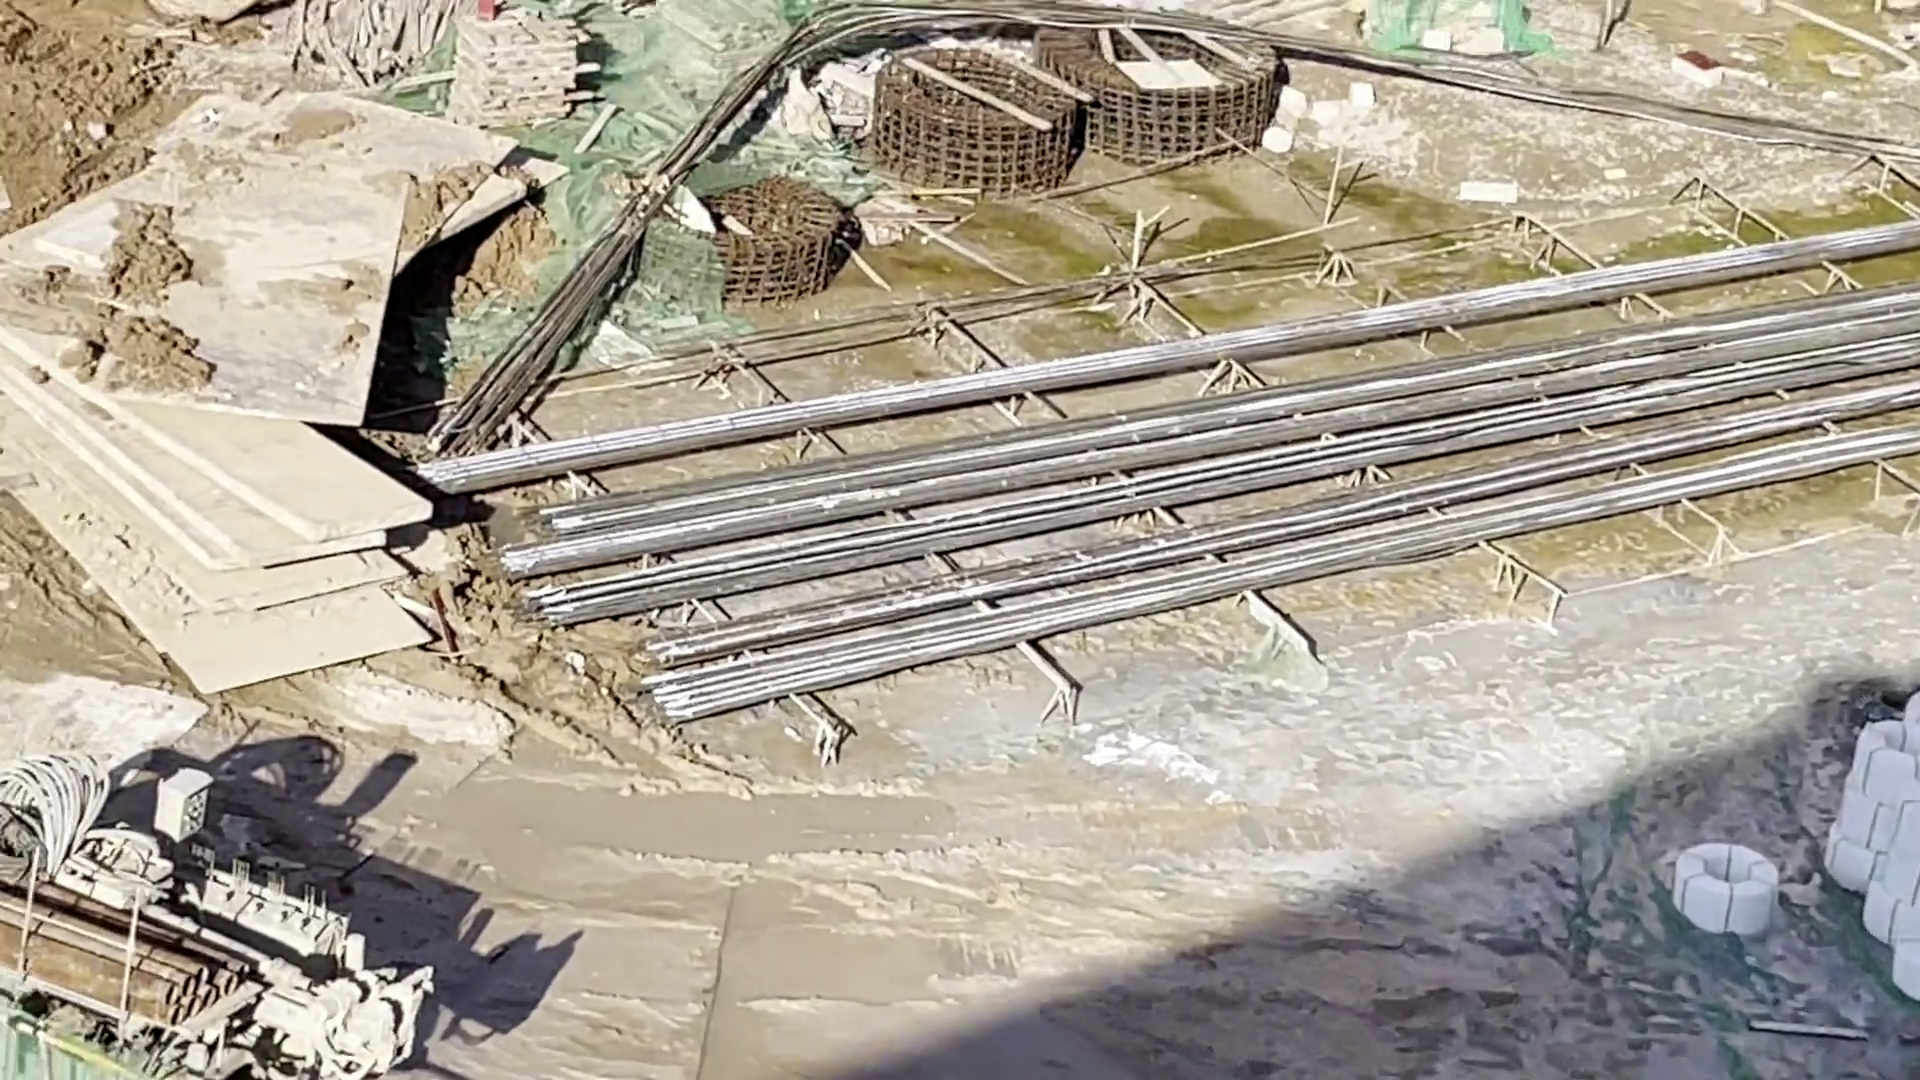board: (7, 66, 513, 692)
